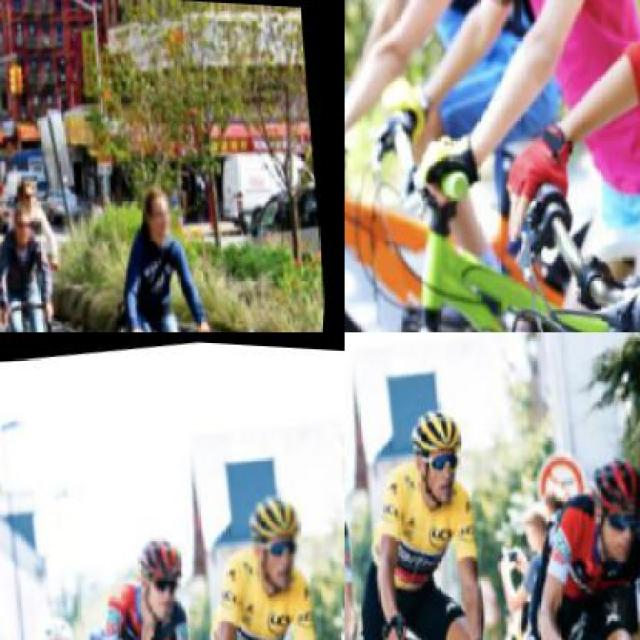With Helmet: (242, 483, 320, 592), (404, 397, 481, 506), (130, 520, 199, 635), (578, 437, 638, 561), (344, 434, 362, 549), (36, 604, 90, 638)
Without Helmet: (140, 173, 186, 236), (8, 194, 42, 240)
